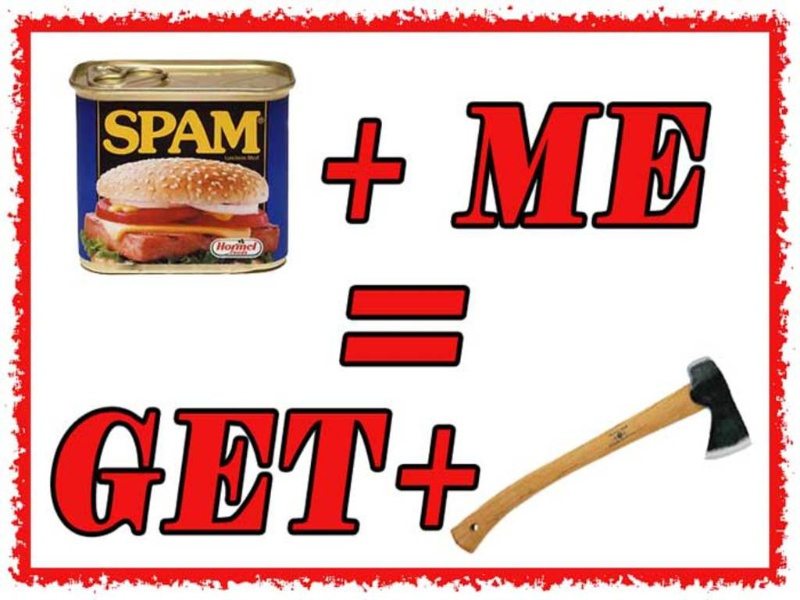axe: (652, 350, 755, 464)
